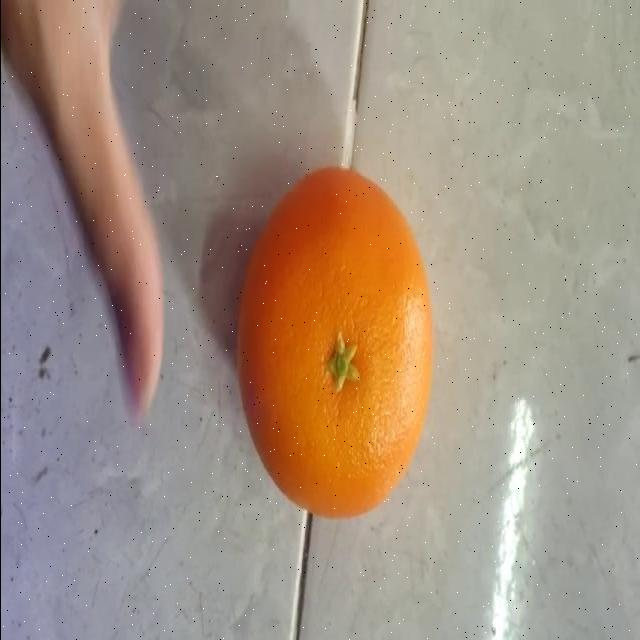Orange: (235, 165, 435, 519)
